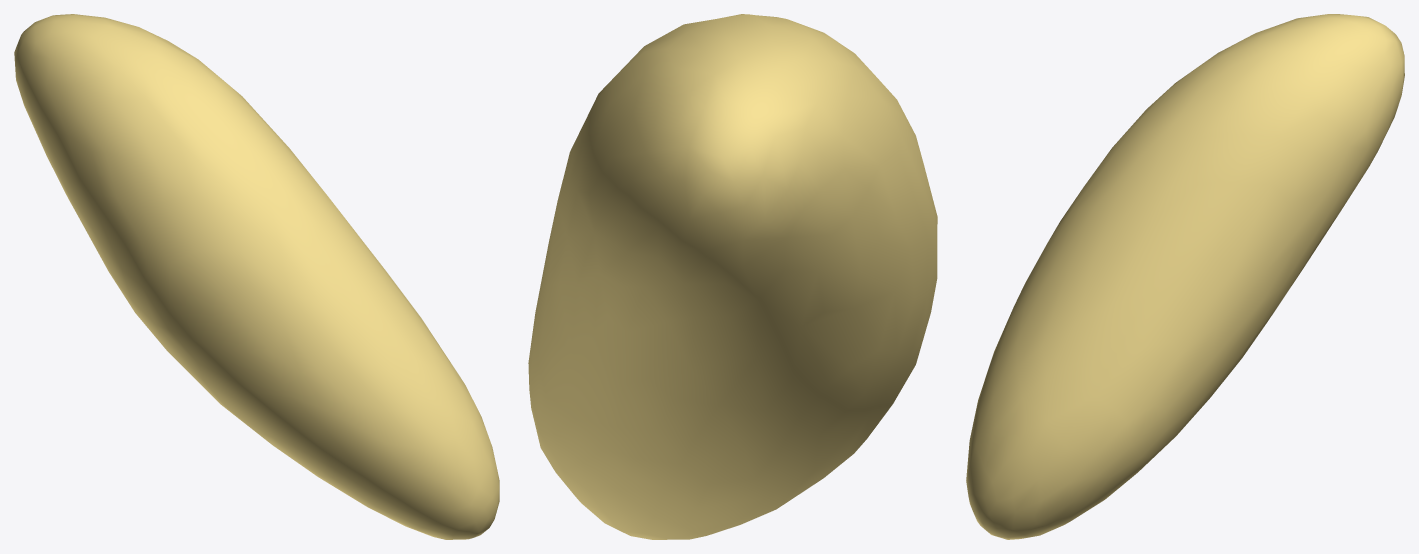
The model's file is fma53477_mm2600.glb.
3 renders of one model, left to right at view 1: azimuth 30°, elevation 25°; view 2: azimuth 150°, elevation 25°; view 3: azimuth 270°, elevation 25°, orthographic. The views are drawn at different scales.
Visible parts, largest first — view 1: FMA53477_MM2600; view 2: FMA53477_MM2600; view 3: FMA53477_MM2600.
Boxes of the visible parts, x1,y1,x2,y2 form: FMA53477_MM2600: [14, 14, 499, 539]; FMA53477_MM2600: [528, 14, 937, 539]; FMA53477_MM2600: [966, 14, 1404, 539].
Size of the model in its own units: 0.00426 by 0.00599 by 0.00565.
